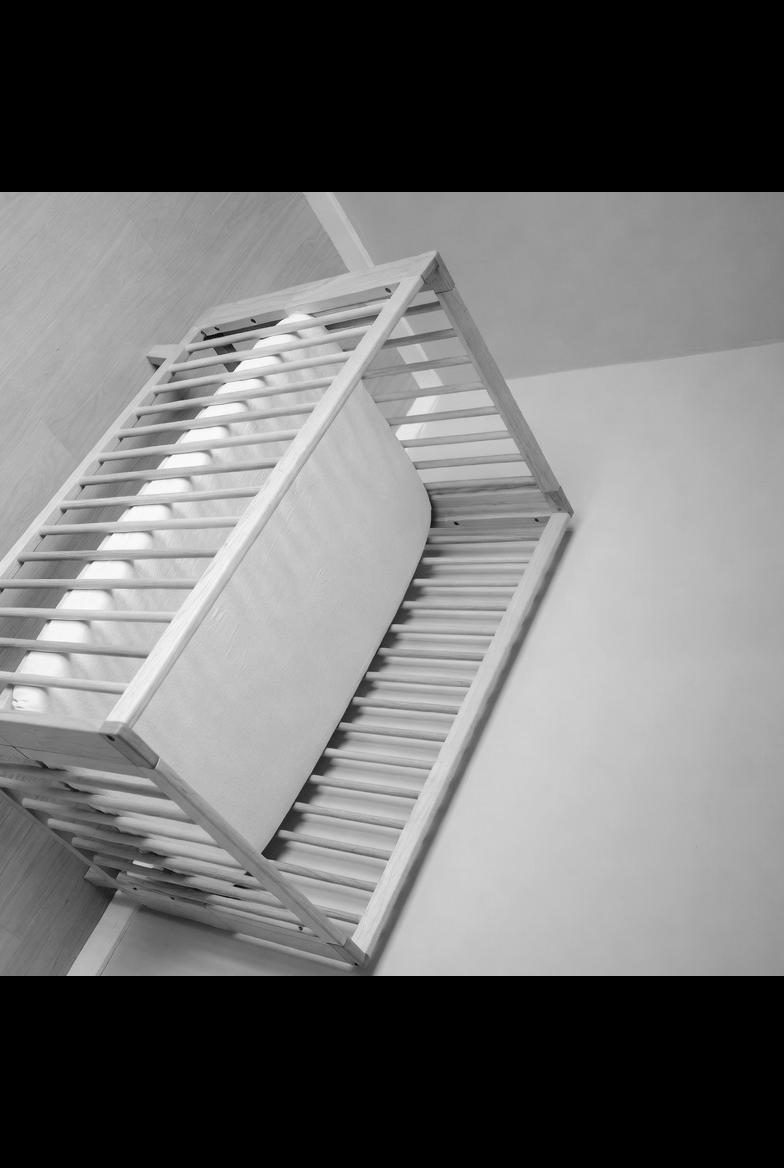crib: (0, 250, 604, 975)
